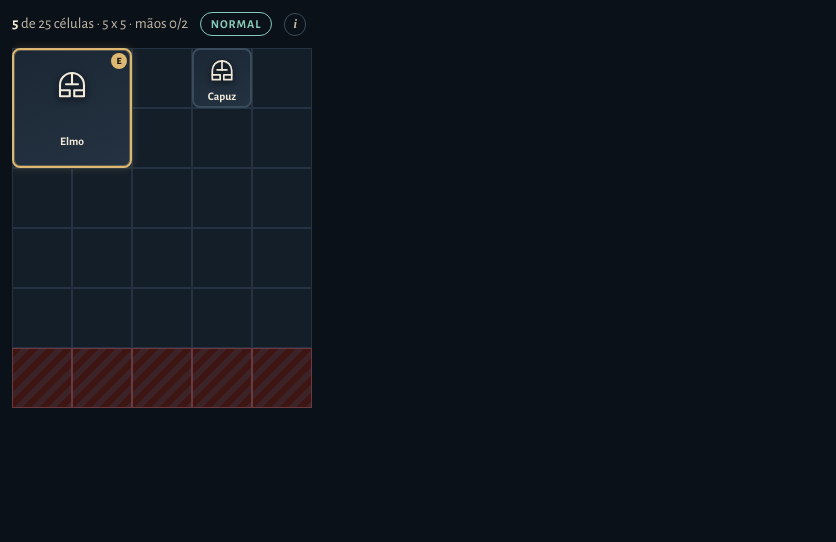
Scenario: InventoryGrid › não deixa equipar uma segunda peça igual
The width and height of the screenshot is (836, 542).
Press Enter in the button "Capuz", box [192, 48, 252, 108]
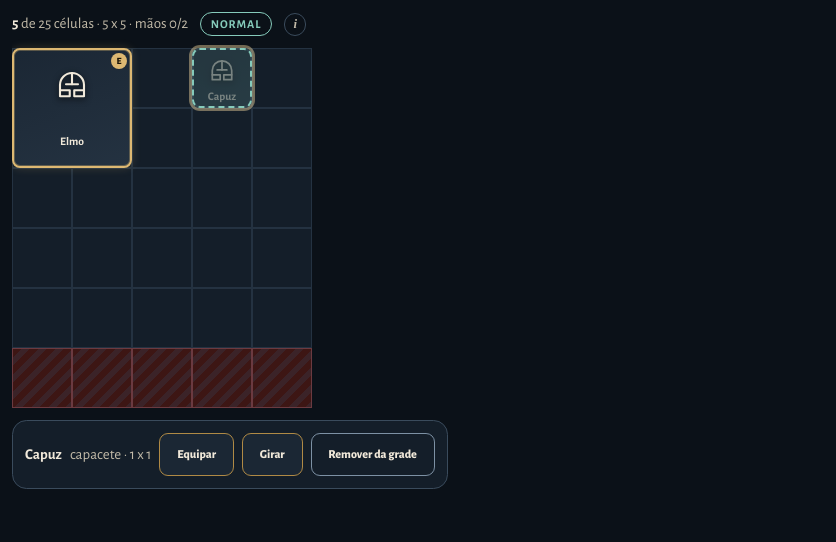
Press Escape in the button "Capuz", box [192, 48, 252, 108]
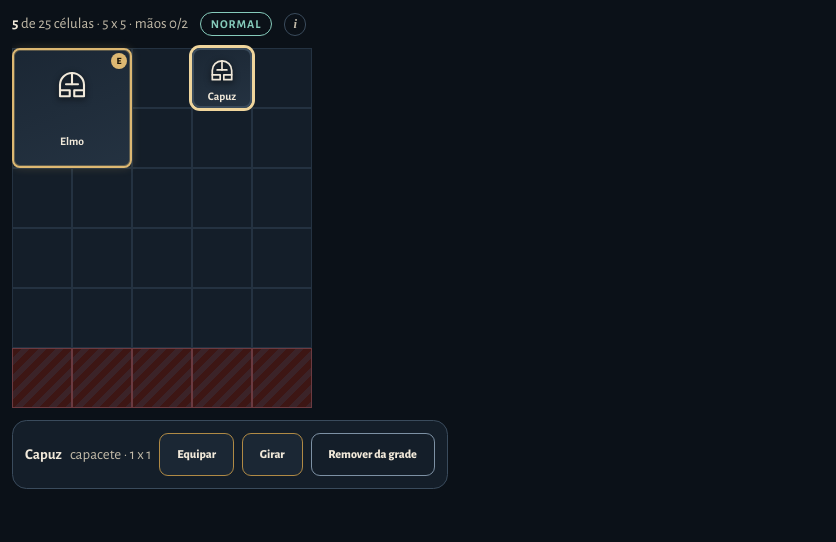
Click the button "Equipar" at x=197, y=454, box [160, 433, 234, 476]
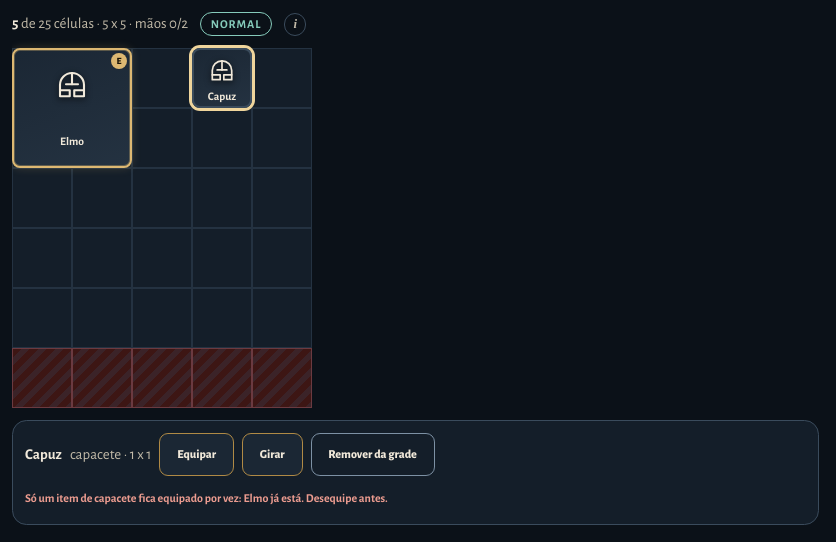
Expected: the message "Só um item de capacete fica equipado por vez: Elmo já está. Desequipe antes." is shown, [25, 492, 388, 504]
